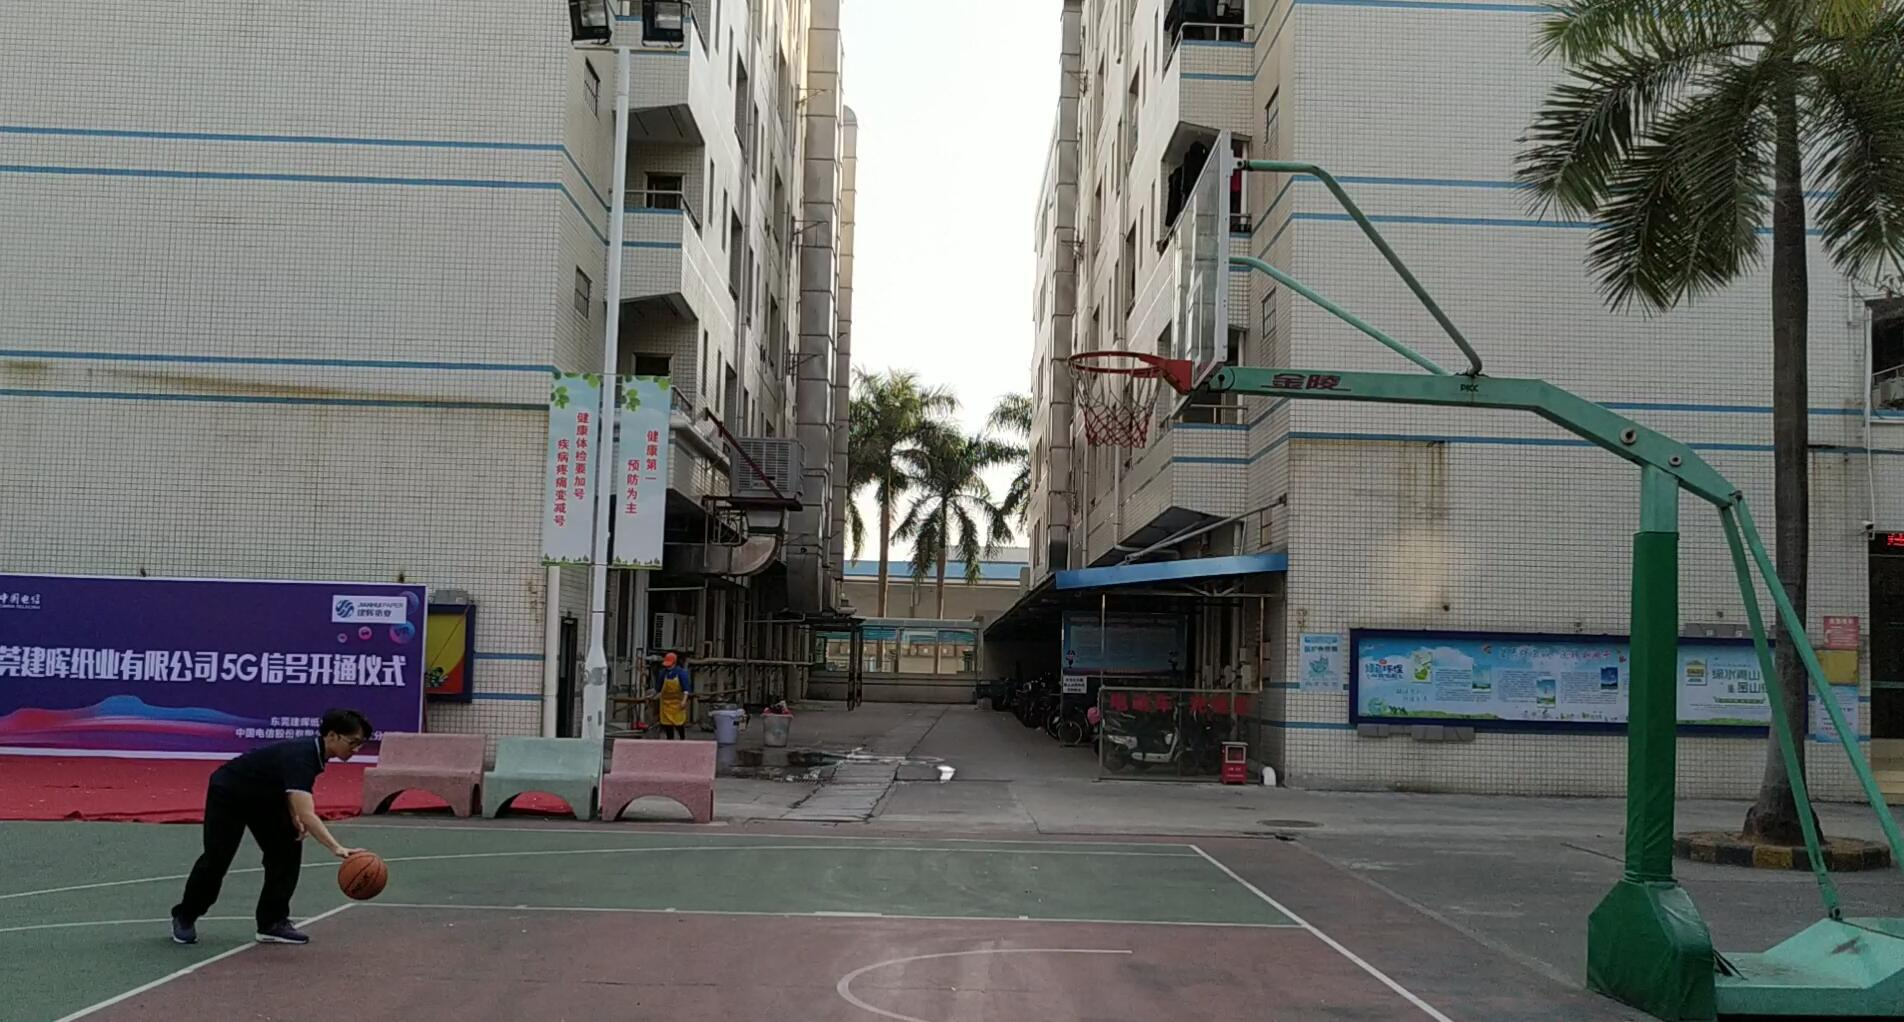basketball: (332, 843, 399, 905)
